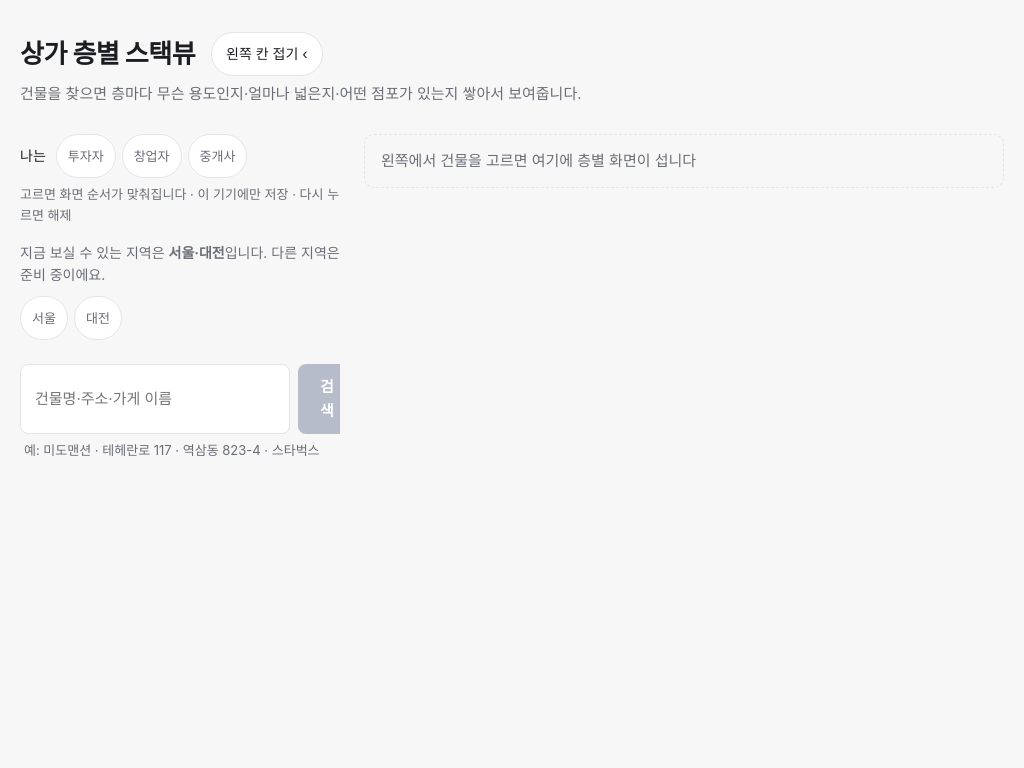
Test: App — 입구의 LH 공고 카드 › 구를 고르면 접힌 카드로 서고, 시도 두 자리로 묻는다
Expected: the text "LH 상가 분양·입점 공고" is not shown
Click the button "서울".
click(44, 318)  # box [20, 296, 68, 340]
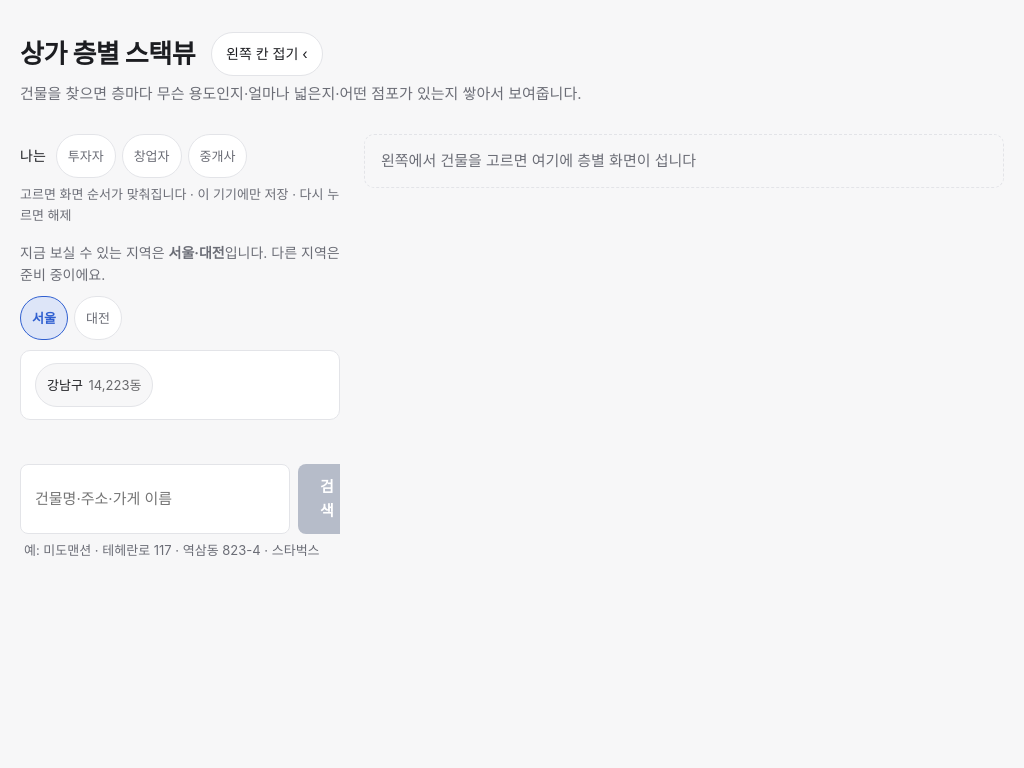
Click the button "강남구 14,223동".
click(94, 385)  # box [35, 363, 153, 407]
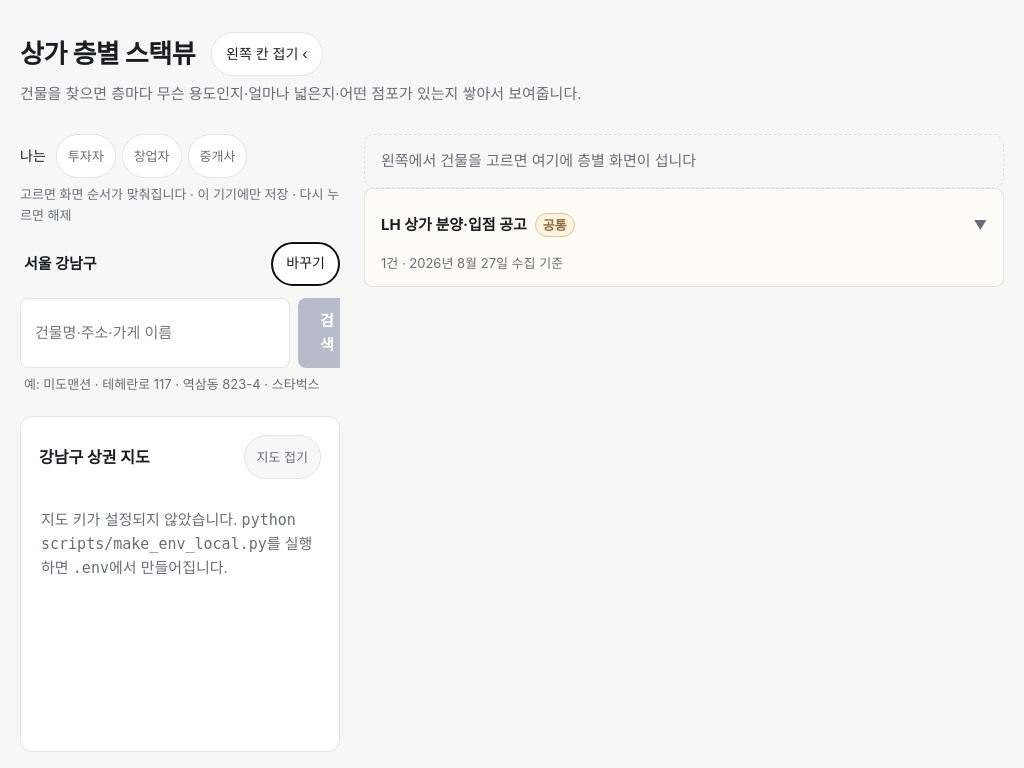
Result: the text "LH 상가 분양·입점 공고" is shown at [381, 213, 527, 237]
